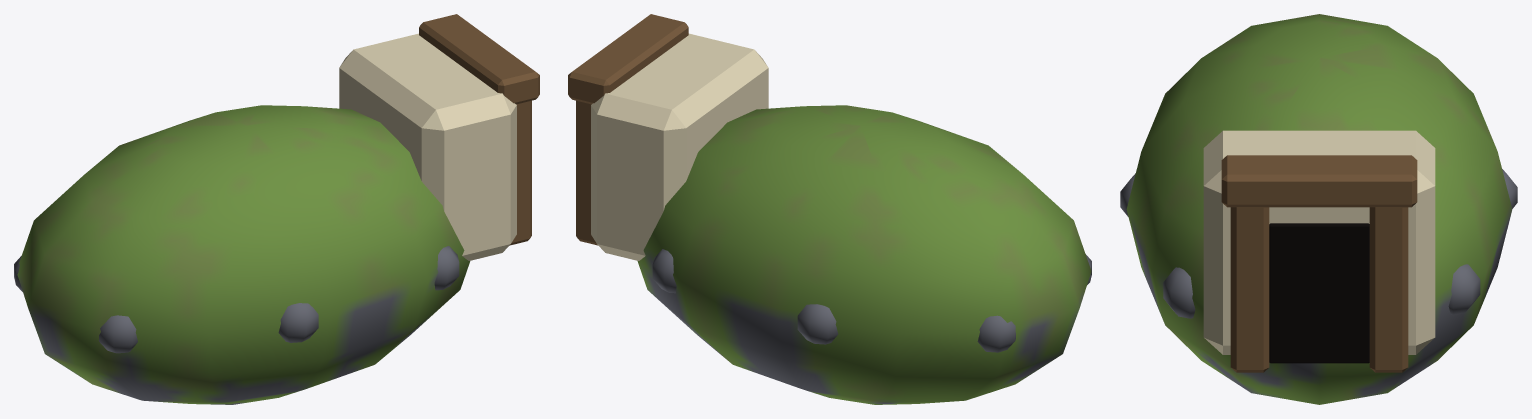
The model's file is prop_barrow_9326.glb.
The picture shows the model from 3 angles, left to right: view 1: azimuth 30°, elevation 25°; view 2: azimuth 150°, elevation 25°; view 3: azimuth 270°, elevation 25°; orthographic projection. The views are drawn at different scales.
Visible parts, largest first — view 1: prop_barrow_9326; view 2: prop_barrow_9326; view 3: prop_barrow_9326.
Part boxes in pixels (x1,y1,x2,y2): prop_barrow_9326: (14,14,539,404); prop_barrow_9326: (568,14,1091,404); prop_barrow_9326: (1120,14,1517,404).
Bounding box in the file's own units: 2.19 × 1.25 × 1.36.
1 material, 1 textured.
